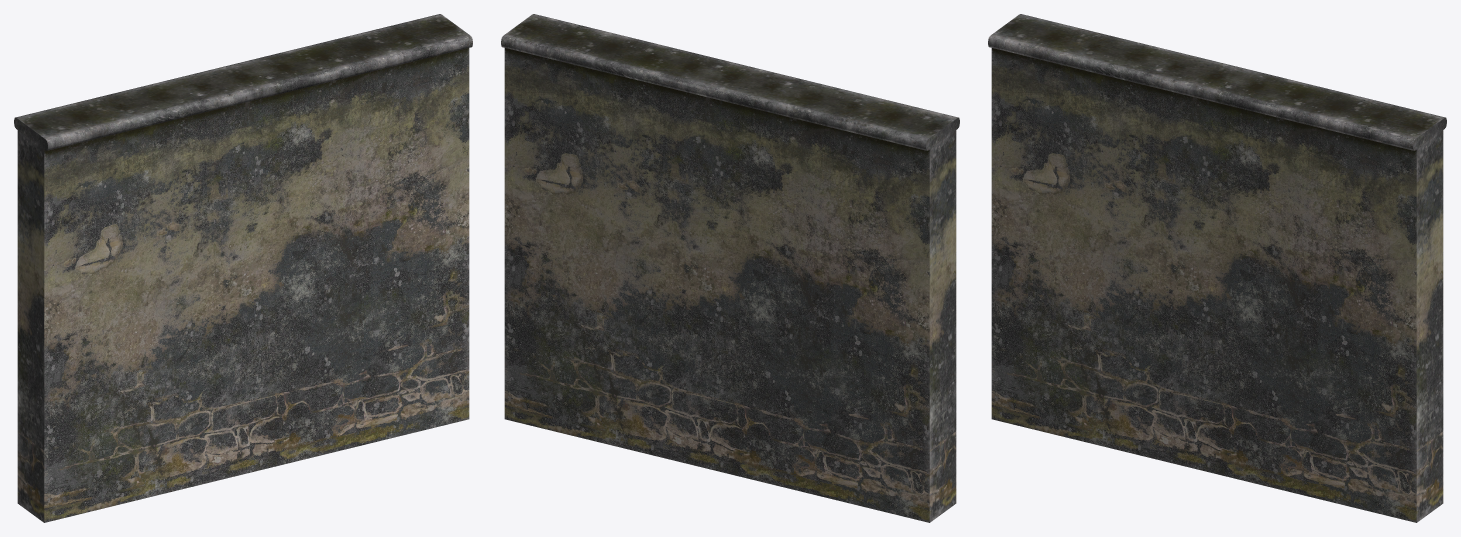
File: SM_fence_26.fbx
The picture shows the model from 3 angles, left to right: view 1: azimuth 30°, elevation 25°; view 2: azimuth 150°, elevation 25°; view 3: azimuth 330°, elevation 25°; orthographic projection.
Parts seen in each view (by area): view 1: SM_fence_26; view 2: SM_fence_26; view 3: SM_fence_26.
Boxes of the visible parts, x1=… form: SM_fence_26: x1=14, y1=14, x2=472, y2=522; SM_fence_26: x1=501, y1=14, x2=959, y2=522; SM_fence_26: x1=988, y1=14, x2=1446, y2=522.
Size of the model in its own units: 340 by 294 by 46.92.
